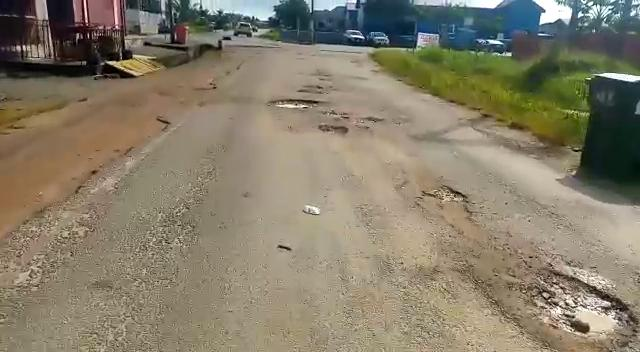pothole: (514, 258, 640, 352), (413, 183, 492, 245), (267, 96, 323, 109), (315, 123, 351, 134)
